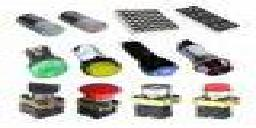LED: (26, 47, 66, 78), (137, 58, 181, 79), (80, 57, 118, 76)
